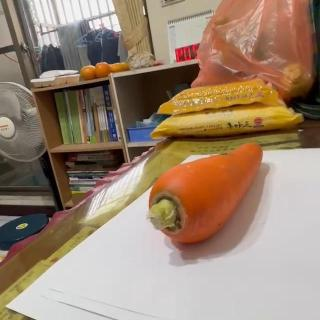carrot: (148, 142, 264, 245)
